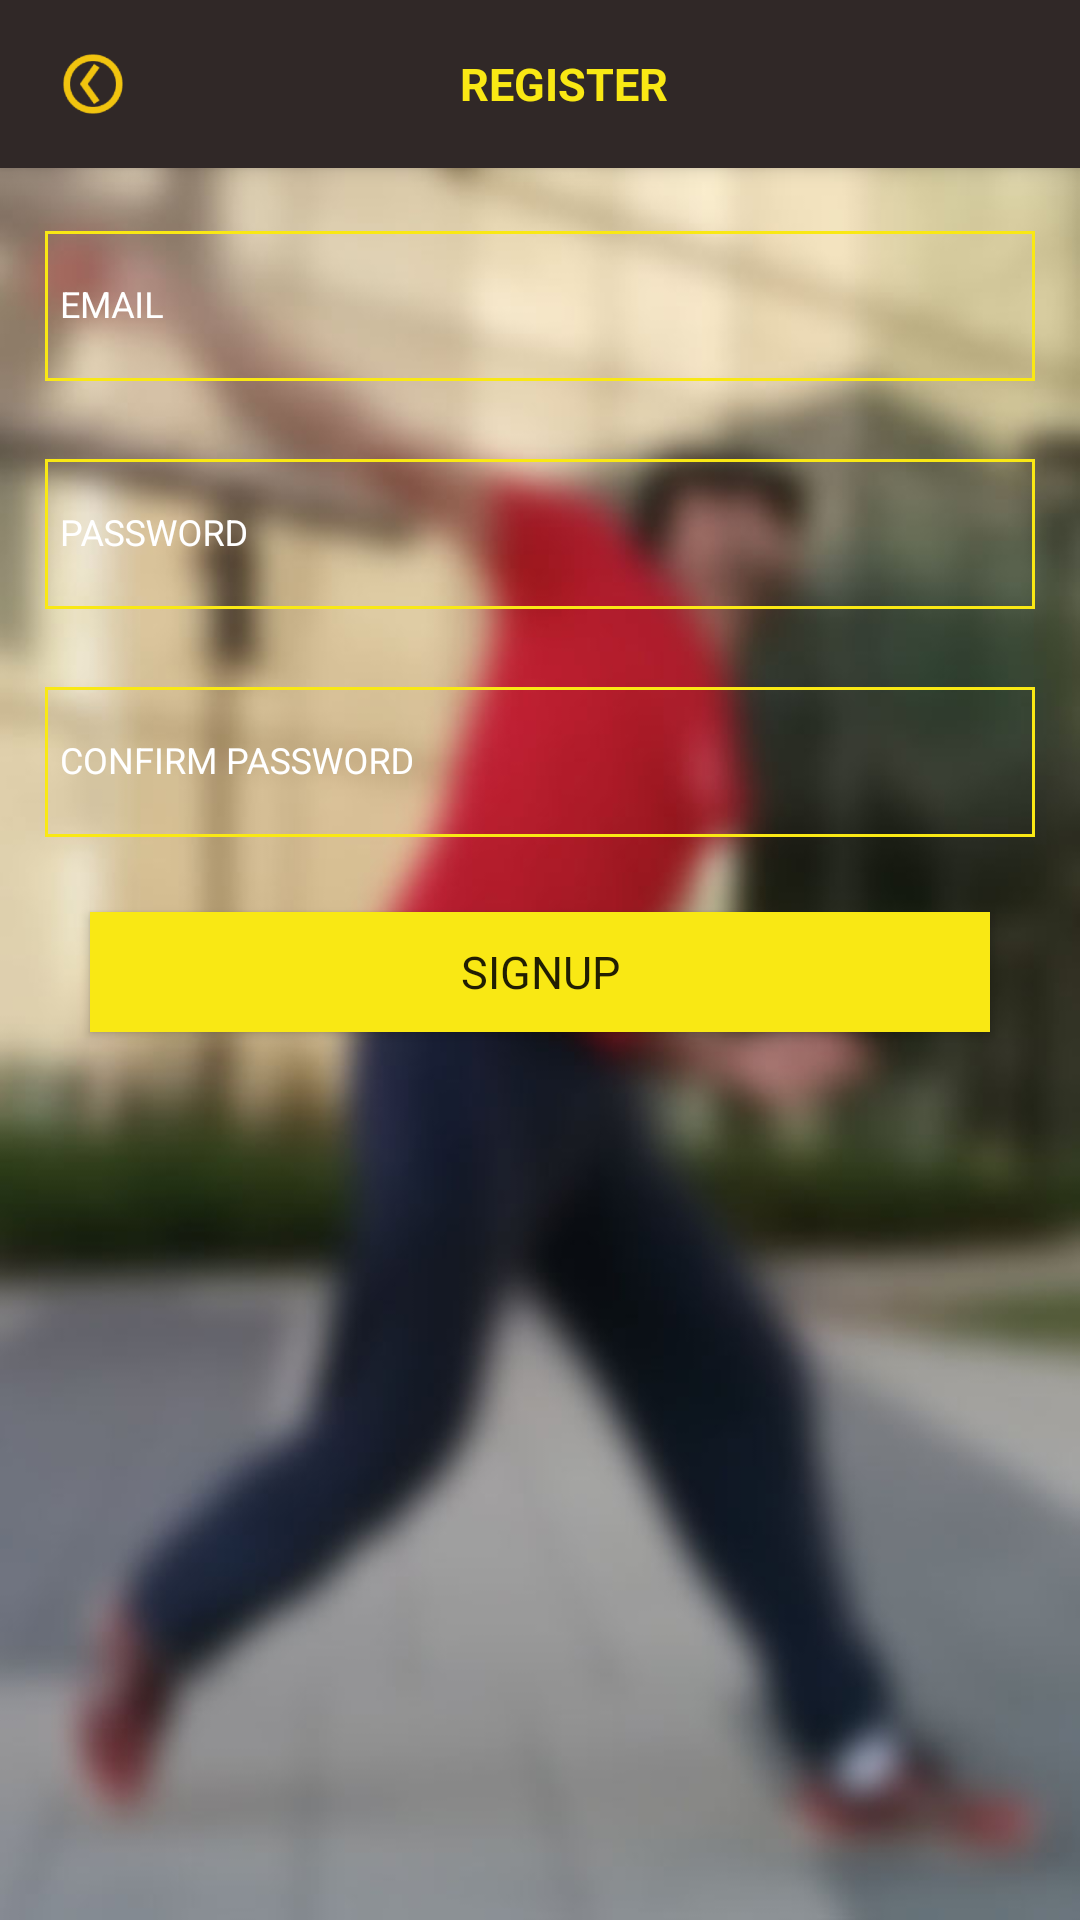

Point at icon controls on the screen. Image size 1080 × 1920, points as (x,y).
back: (93,84)
